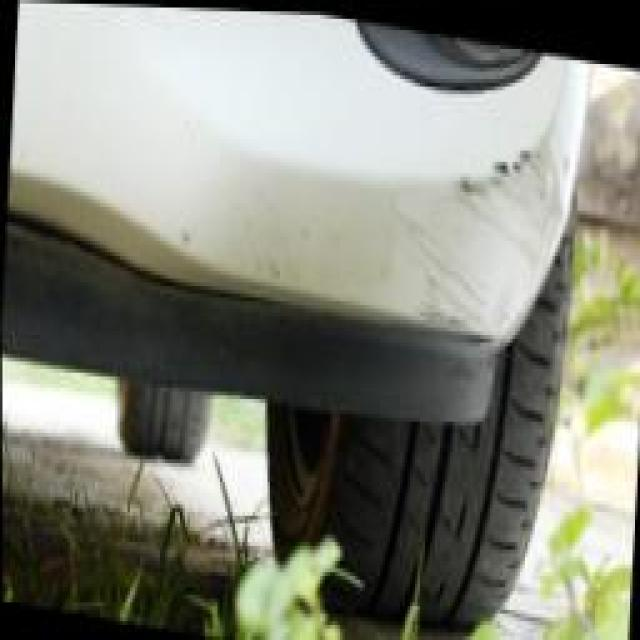Bumper: (360, 75, 584, 365)
